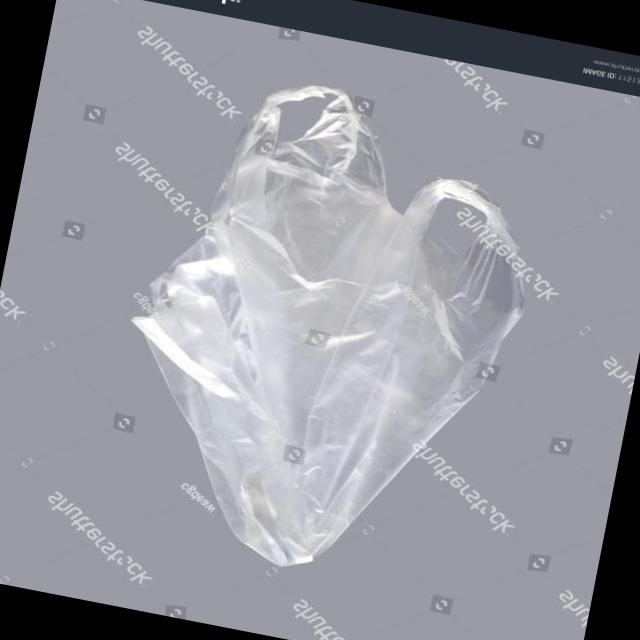KantongPlastik: (89, 58, 560, 606)
